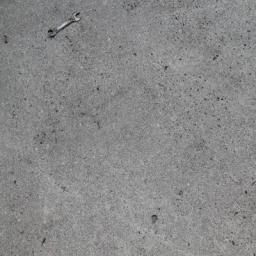FOD: (45, 10, 86, 43)
